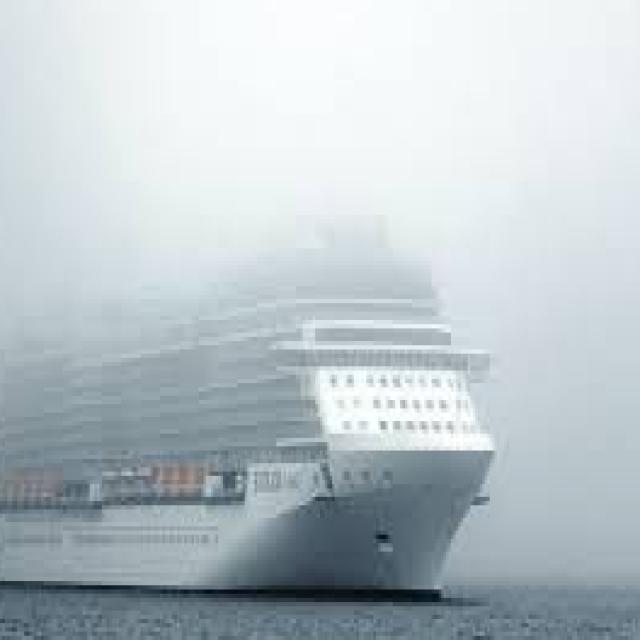passenger ship: (0, 185, 509, 586)
